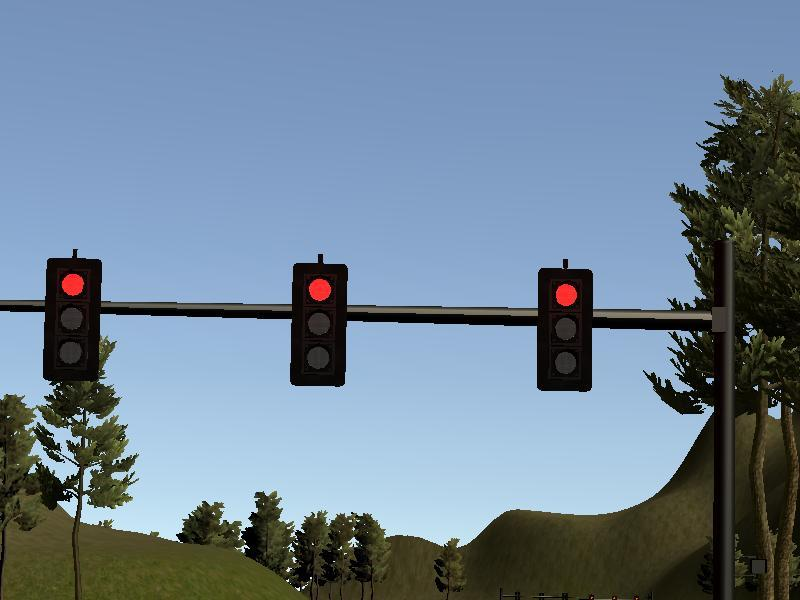Red: (44, 257, 100, 382), (536, 268, 592, 393), (290, 263, 346, 388)
